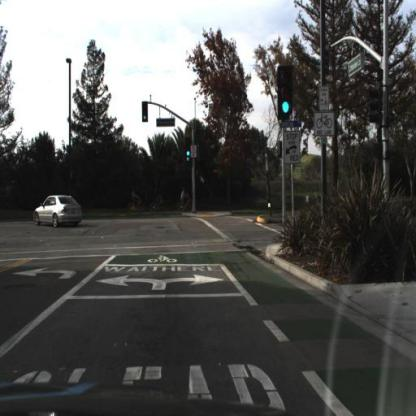biker: (127, 186, 150, 216), (149, 186, 171, 215), (178, 187, 195, 212), (181, 188, 189, 213), (135, 188, 142, 214), (156, 189, 163, 211)
car: (33, 194, 84, 232)
trafficLight: (185, 138, 192, 166), (185, 138, 192, 164)
trafficLight-Green: (277, 65, 295, 124), (278, 65, 294, 119)
trafficLight-GreenLeft: (142, 100, 150, 124), (143, 101, 149, 124)
